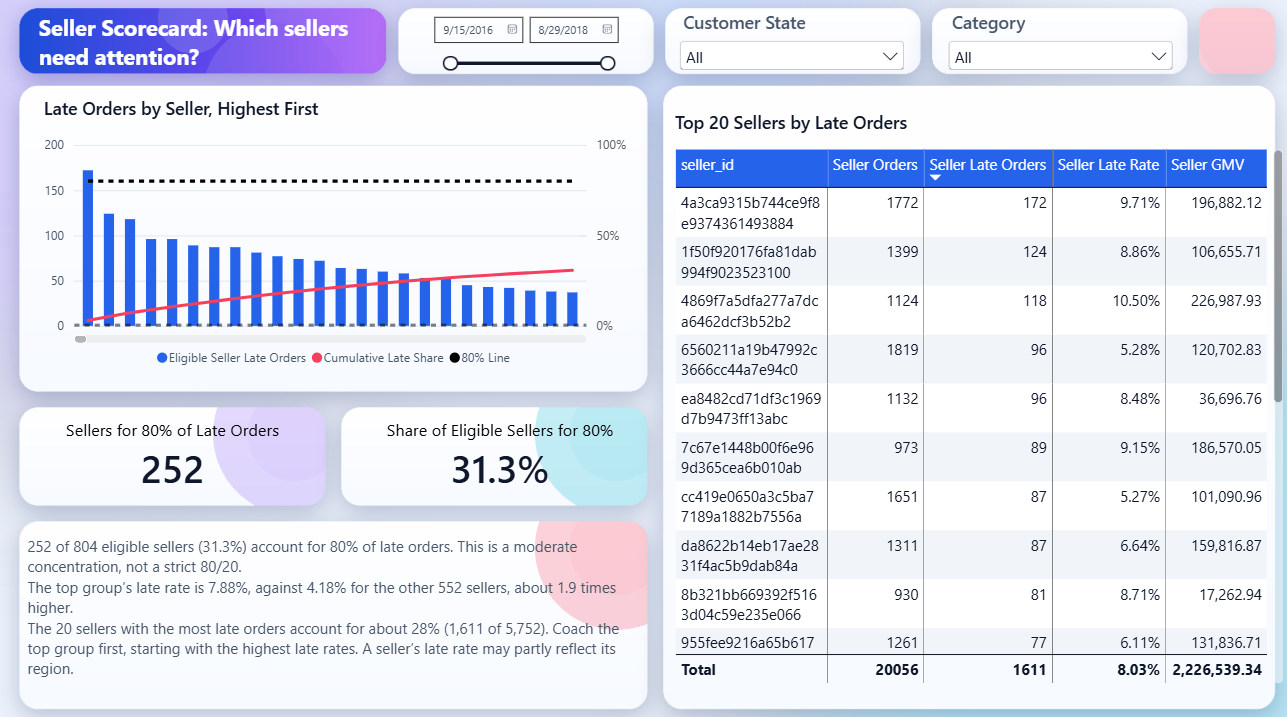

Layout of this report page (visuals, bound fields, positions):
{"tool":"powerbi","page":{"name":"Seller scorecard","canvas":[1280,720],"ordinal":4},"visuals":[{"type":"textbox","box":[42.9,19.6,336.2,68.7],"z":0},{"type":"slicer","fields":{"Values":["dim_date.Date"]},"box":[423.3,19.6,193.9,69.9],"z":1000},{"type":"slicer","fields":{"Values":["gold_dim_state.customer_state"]},"box":[667.5,18.4,229.4,57.7],"z":2000},{"type":"slicer","fields":{"Values":["gold_dim_category.category"]},"box":[931.3,18.4,229.4,57.7],"z":3000},{"type":"textbox","box":[31.7,533.3,603.3,160],"z":4000},{"type":"lineStackedColumnComboChart","title":"Late Orders by Seller, Highest First","fields":{"Category":["gold_dim_seller.seller_id"],"Y":["_Measures.Eligible Seller Late Orders"],"Y2":["_Measures.Cumulative Late Share","_Measures.80% Line"]},"box":[32,88,604.4,300],"z":5000},{"type":"cardVisual","fields":{"Data":["_Measures.Sellers Needed for 80% of Late Orders"]},"box":[34,416,280,80],"z":6000},{"type":"cardVisual","fields":{"Data":["_Measures.Share of Eligible Sellers for 80%"]},"box":[355.6,415.6,280,80],"z":7000},{"type":"tableEx","title":"Top 20 Sellers by Late Orders","fields":{"Values":["gold_dim_seller.seller_id","_Measures.Seller Orders","_Measures.Seller Late Orders","_Measures.Seller Late Rate","_Measures.Seller GMV"]},"box":[651.8,101.5,628.5,592.8],"z":8000}]}

Visuals, with their boxes in screenshot pixels (x1, y1, x2, y2), scaled from the page's 1280x720 canvas onto the 1287x717 screenshot:
textbox: left=43, top=20, right=381, bottom=88
slicer - dim_date.Date: left=426, top=20, right=621, bottom=89
slicer - gold_dim_state.customer_state: left=671, top=18, right=902, bottom=76
slicer - gold_dim_category.category: left=936, top=18, right=1167, bottom=76
textbox: left=32, top=531, right=638, bottom=690
"Late Orders by Seller, Highest First" lineStackedColumnComboChart: left=32, top=88, right=640, bottom=386
cardVisual - _Measures.Sellers Needed for 80% of Late Orders: left=34, top=414, right=316, bottom=494
cardVisual - _Measures.Share of Eligible Sellers for 80%: left=358, top=414, right=639, bottom=494
"Top 20 Sellers by Late Orders" tableEx: left=655, top=101, right=1286, bottom=691
